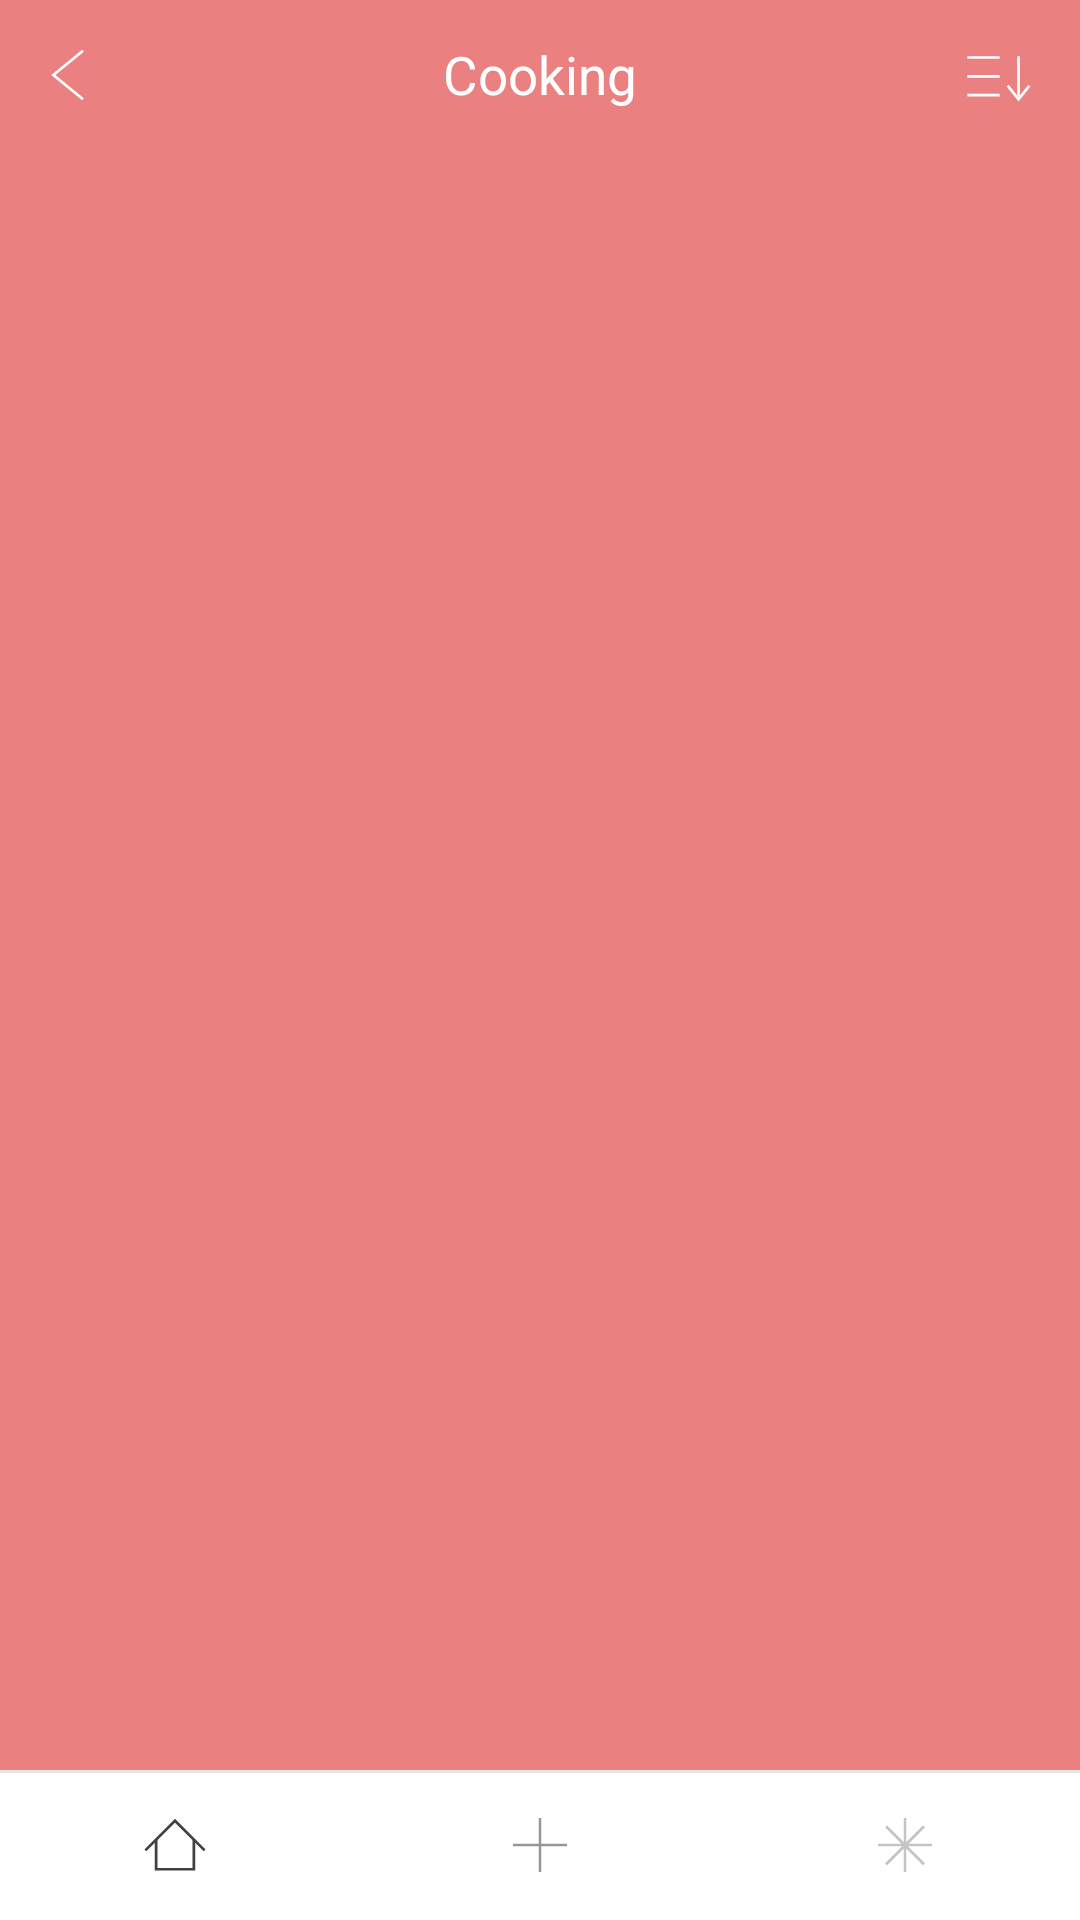

Where to tap for icons on this 1080 x 1920 app screen, as (x,y):
back: (67,75)
contents add: (540,1845)
home: (175,1845)
sort desc: (998,78)
